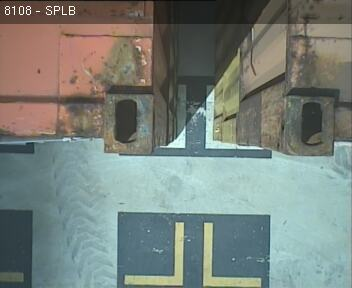groundmarker_1: (124, 222, 261, 288), (162, 84, 269, 150)
